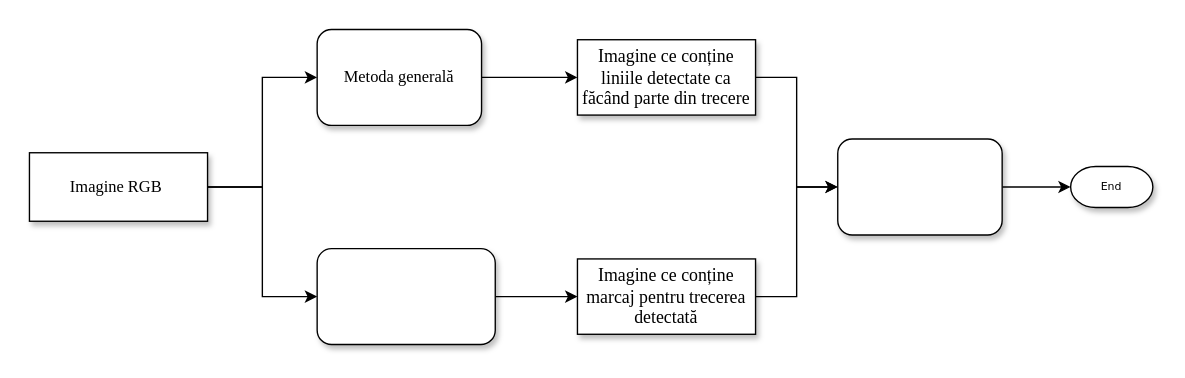
Image size: 1185x378. Some labels were removed from this diagram. Here are the shapes that lost their labels. From the top down, the centre of each, then its label:
At point (920, 188): "Comparare rezultate din punct de vedere al acurateței și timpului".
At point (406, 298): "Mask R-CNN".
